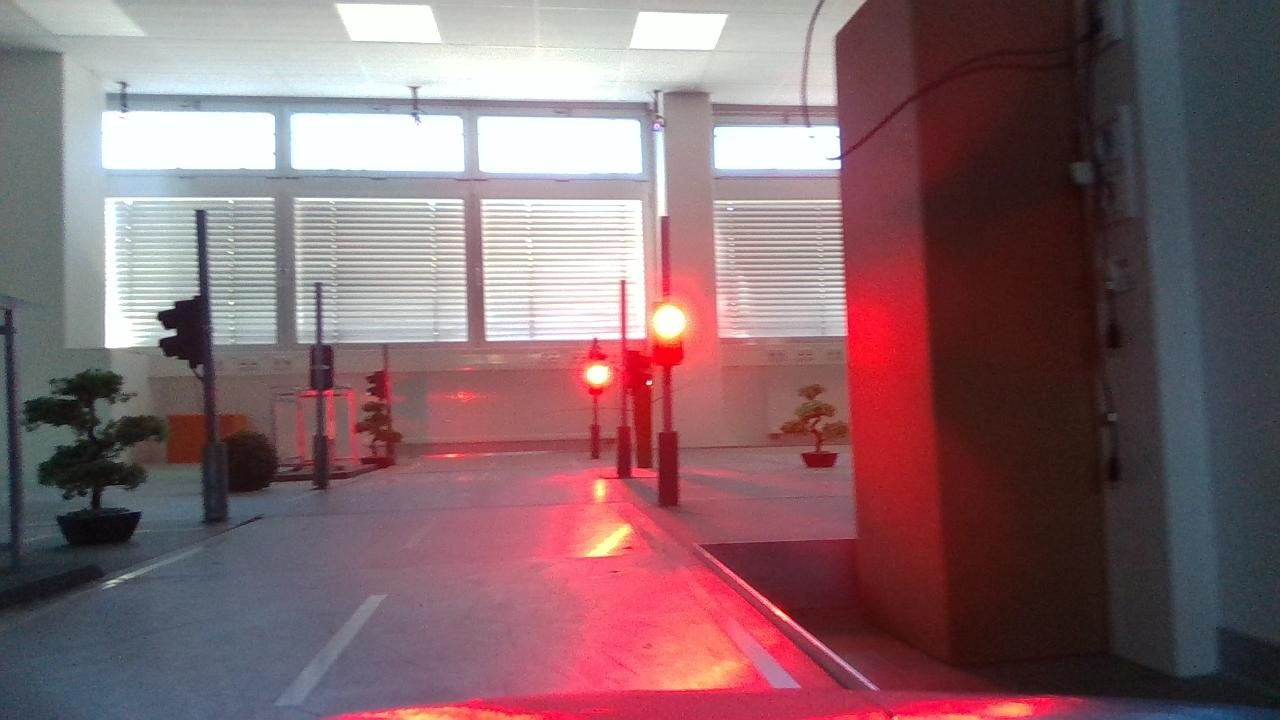traffic_light_red: (641, 295, 701, 379)
